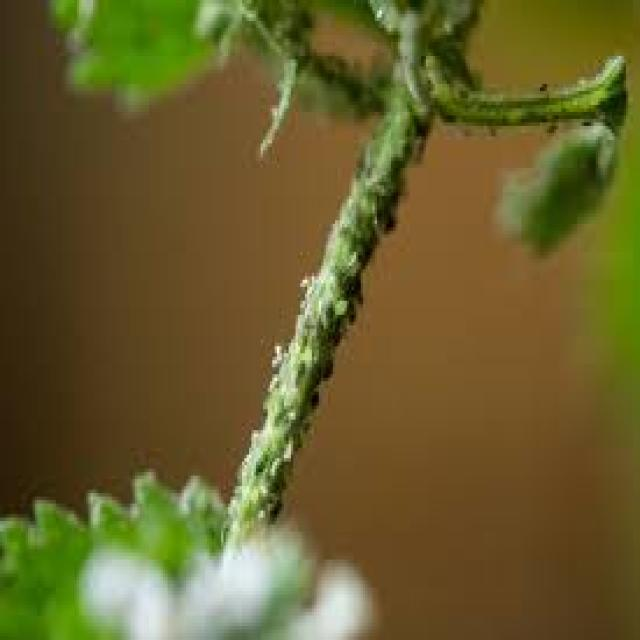aphid: (258, 483, 284, 528), (286, 304, 310, 350), (300, 350, 324, 395), (247, 440, 272, 476), (328, 287, 349, 322), (289, 350, 307, 388), (260, 364, 282, 392)
